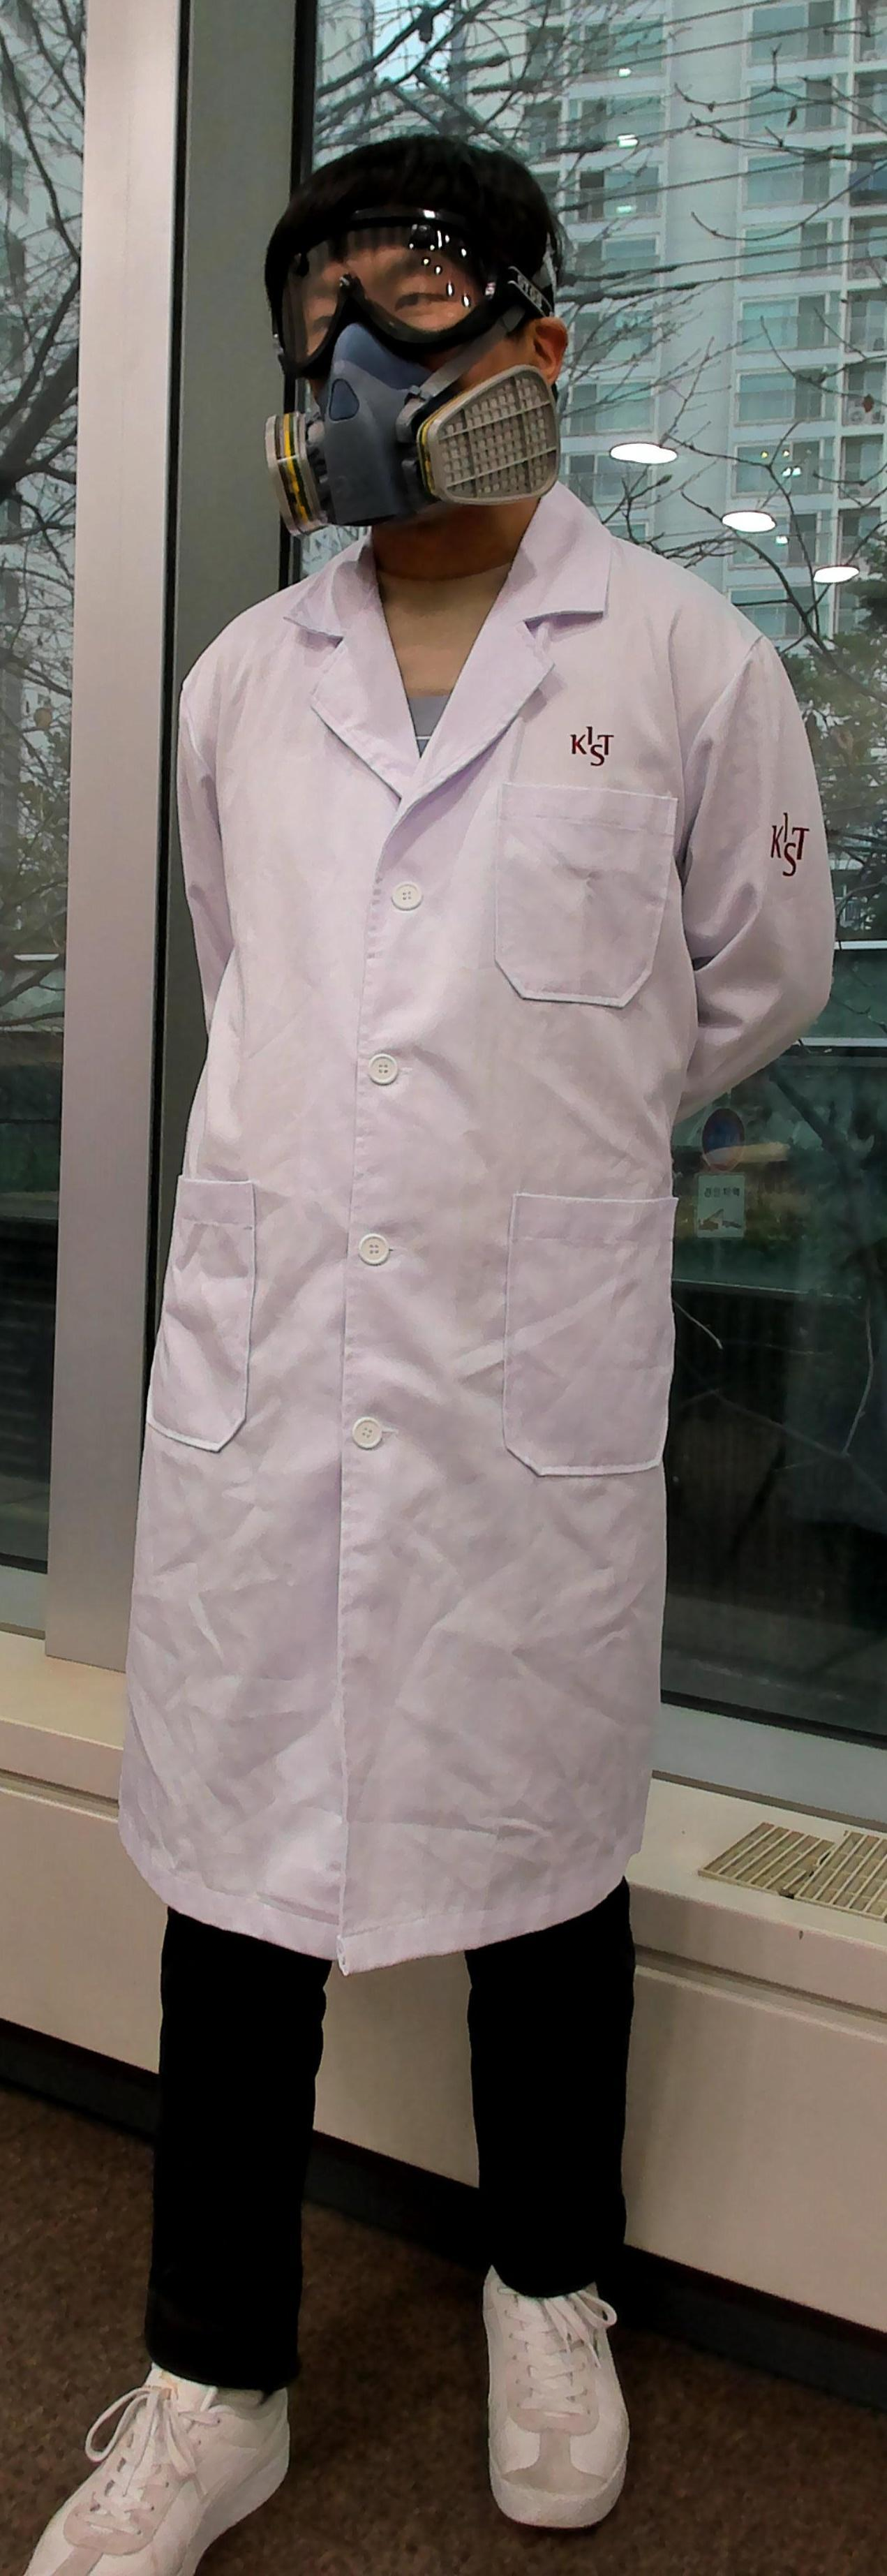lab_coat: (64, 616, 818, 1945)
